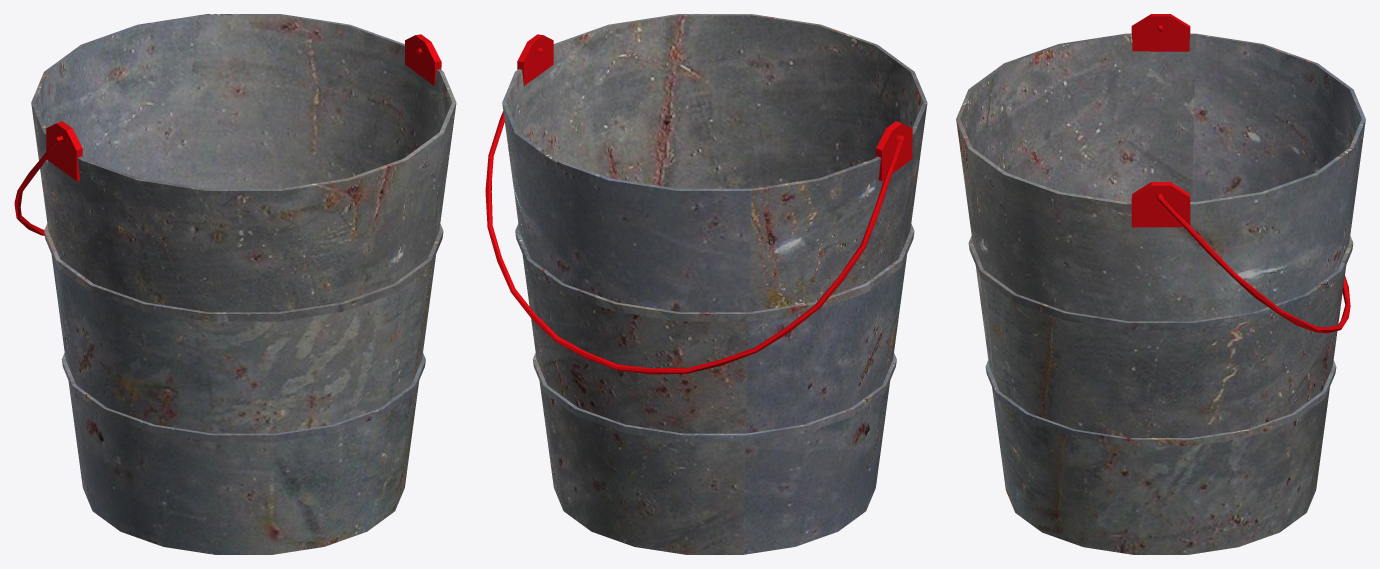
Rendered from RustedBucket.fbx.
3 views of the same model, side by side, from view 1: azimuth 30°, elevation 25°; view 2: azimuth 150°, elevation 25°; view 3: azimuth 270°, elevation 25° (orthographic). The views are drawn at different scales.
Parts seen in each view (by area): view 1: Cylinder; view 2: Cylinder; view 3: Cylinder.
Part boxes in pixels (left/top/right/bottom): Cylinder: left=14, top=14, right=456, bottom=554; Cylinder: left=485, top=14, right=927, bottom=554; Cylinder: left=956, top=14, right=1365, bottom=554.
Size of the model in its own units: 103 by 105 by 100.
Materials: 2 (1 with a texture image).
